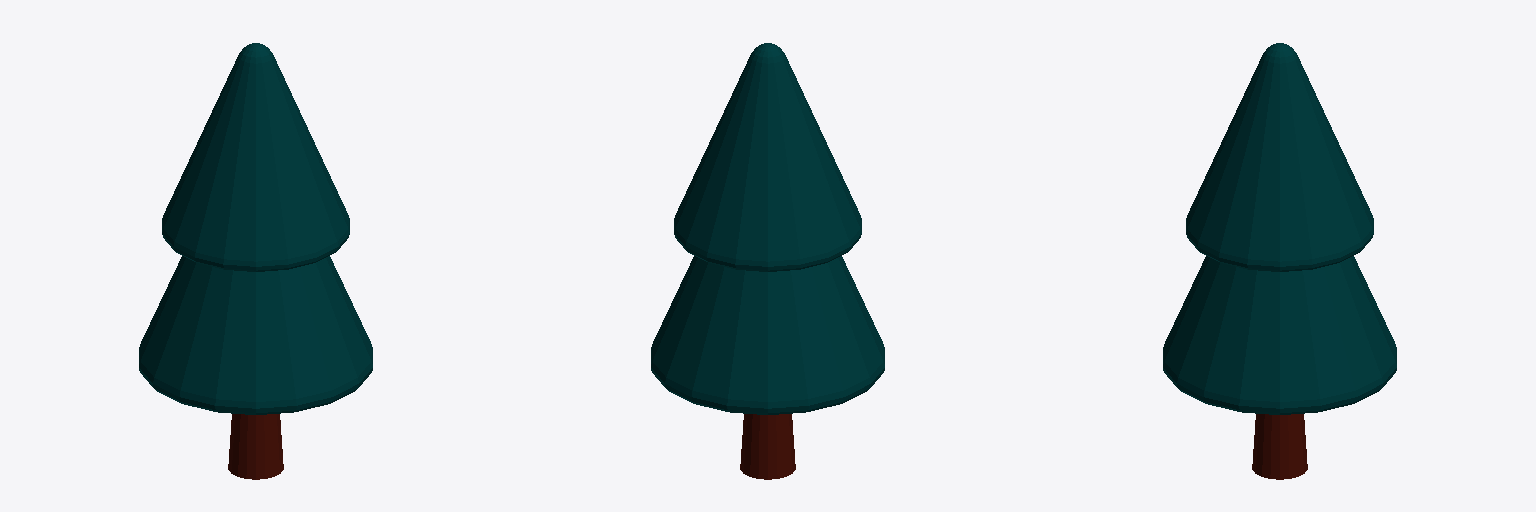
Rendered from tree_forest.obj.
3 views of the same model, side by side, from view 1: azimuth 30°, elevation 25°; view 2: azimuth 150°, elevation 25°; view 3: azimuth 270°, elevation 25° (orthographic).
Visible parts, largest first — view 1: tree_forest:Mesh; view 2: tree_forest:Mesh; view 3: tree_forest:Mesh.
Boxes of the visible parts, x1=… form: tree_forest:Mesh: x1=139, y1=43, x2=372, y2=479; tree_forest:Mesh: x1=651, y1=43, x2=884, y2=479; tree_forest:Mesh: x1=1163, y1=43, x2=1396, y2=479.
Size of the model in its own units: 1.53 by 3 by 1.5.